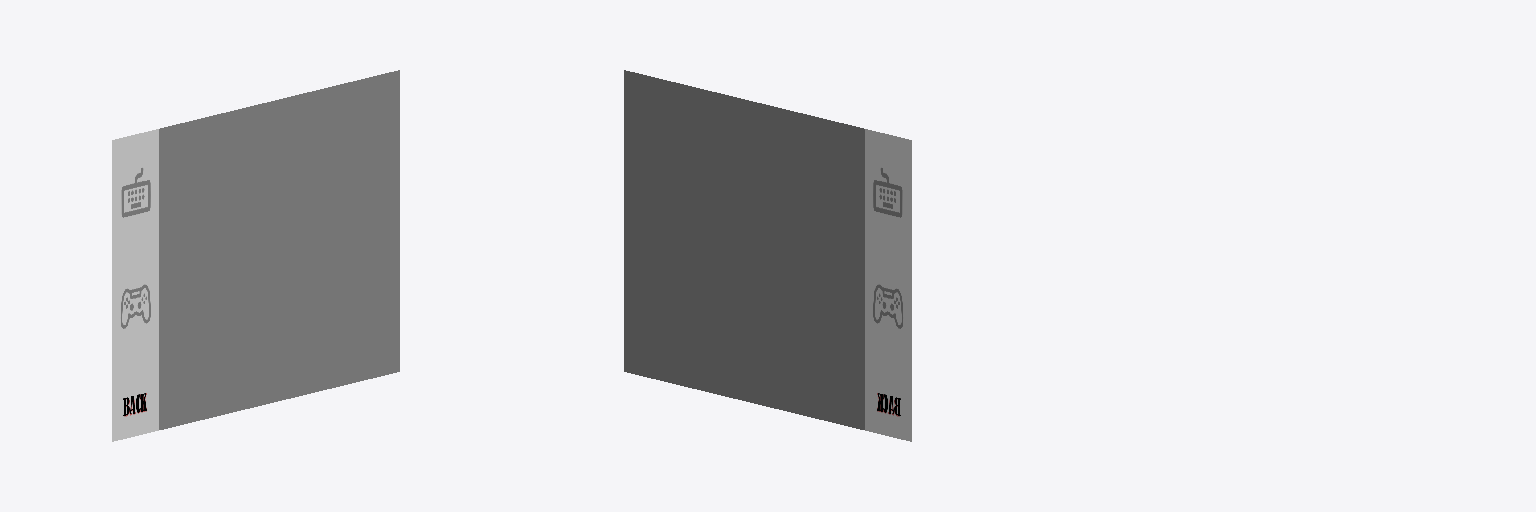
3 views of the same model, side by side, from view 1: azimuth 30°, elevation 25°; view 2: azimuth 150°, elevation 25°; view 3: azimuth 270°, elevation 25° (orthographic).
Parts seen in each view (by area): view 1: Plane.001; view 2: Plane.001; view 3: none.
Part boxes in pixels (left/top/right/bottom): Plane.001: left=112, top=70, right=399, bottom=441; Plane.001: left=624, top=70, right=911, bottom=441.
Size of the model in its own units: 2 by 2 by 0.
1 materials, 1 textured.